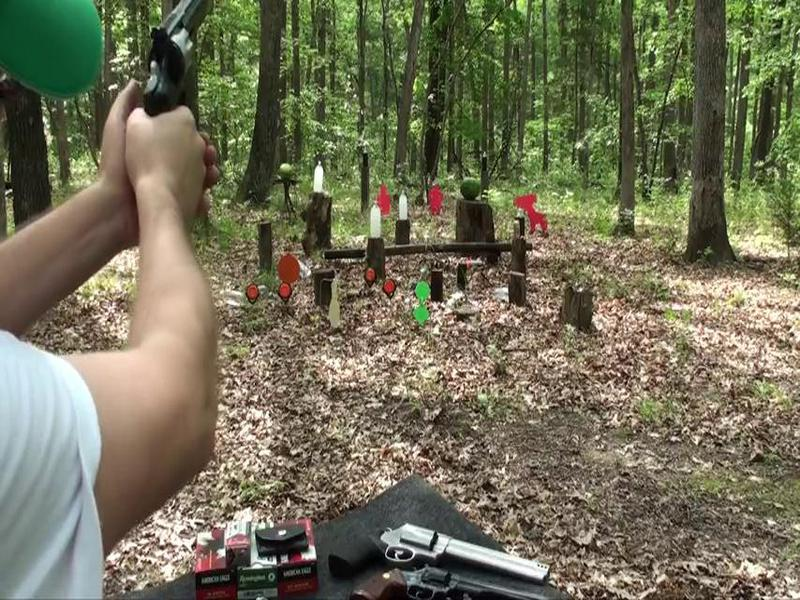Revolver: (128, 1, 238, 191)
